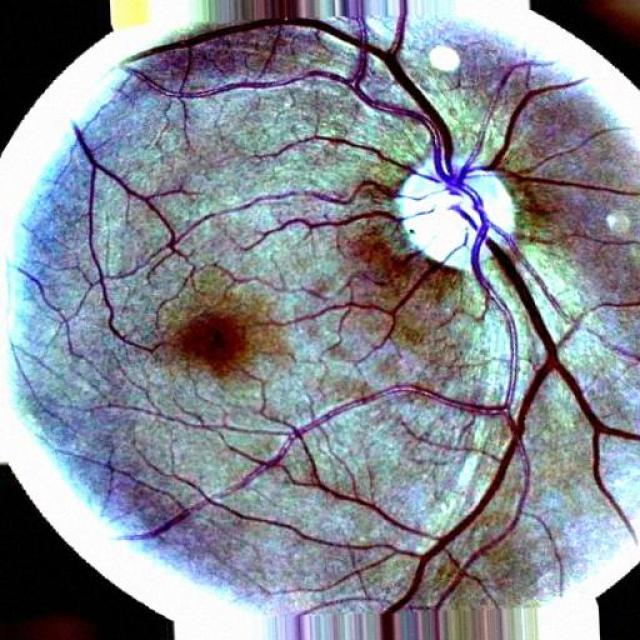Macula: (160, 296, 276, 388)
Nerves: (158, 27, 604, 487)
Optic Disk: (371, 146, 550, 296)
